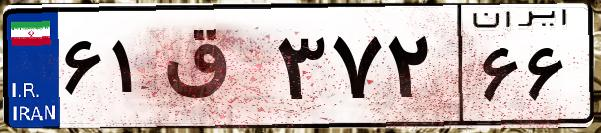1: (110, 28, 158, 98)
2: (385, 28, 445, 110)
3: (270, 28, 330, 110)
6: (57, 26, 110, 100), (475, 38, 525, 113), (525, 38, 570, 115)
7: (330, 28, 385, 110)
ق: (158, 20, 270, 120)
